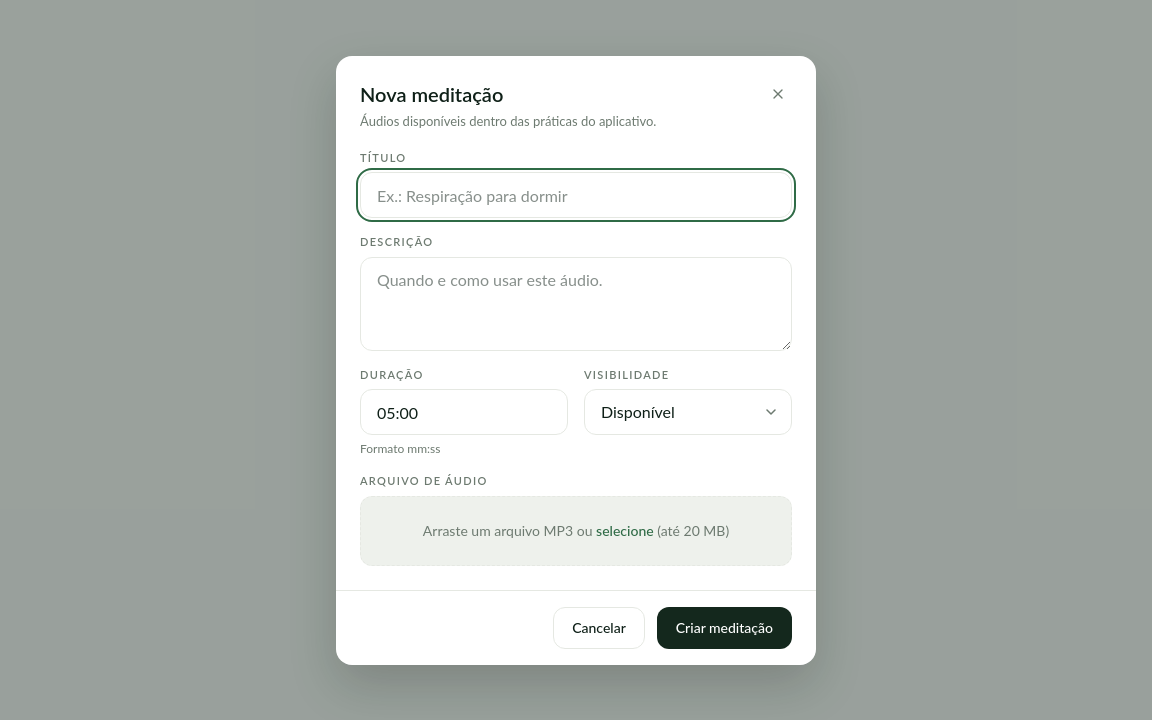
Test: MeditationFormModal › validates required fields before creating
Expected: the dialog "Nova meditação" is shown, [336,56,816,664]
Type "5" into the field labelled "Duração". click: (464, 412)
box: [360,389,568,435]
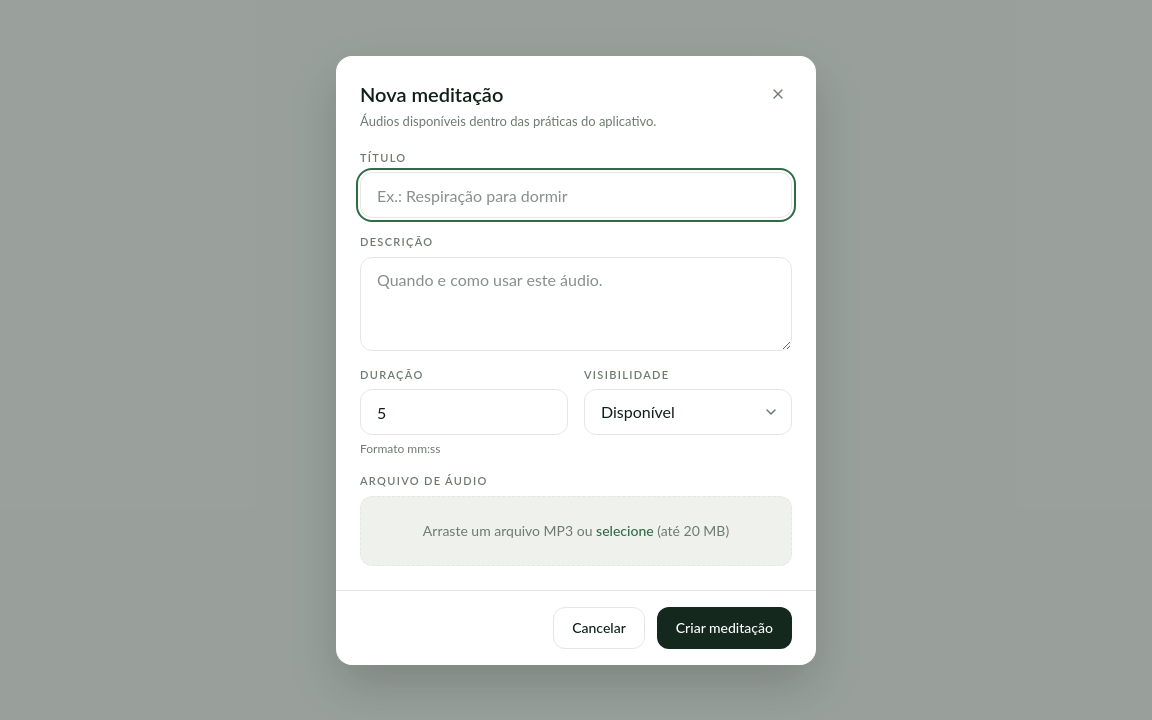
Click the button "Criar meditação". click: (724, 628)
box: [657,606,792,648]
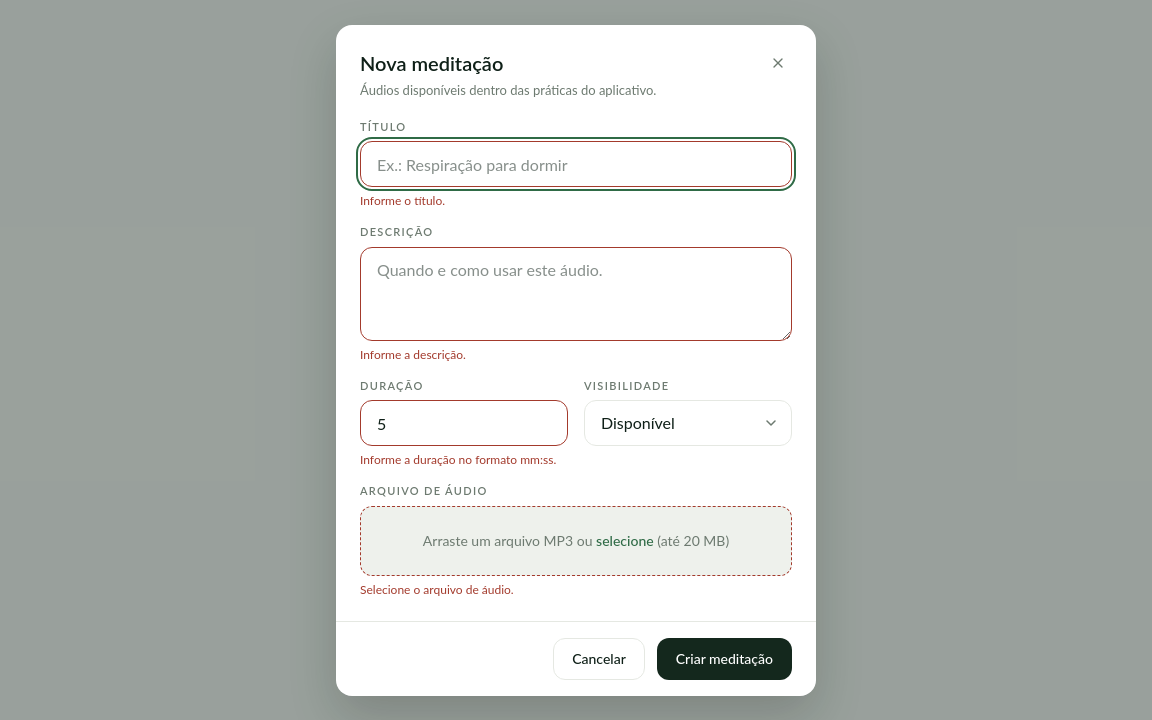
Expected: the text "Informe o título." is shown, [360,193,445,208]
Expected: the text "Informe a descrição." is shown, [360,346,466,362]
Expected: the text "Informe a duração no formato mm:ss." is shown, [360,452,568,467]
